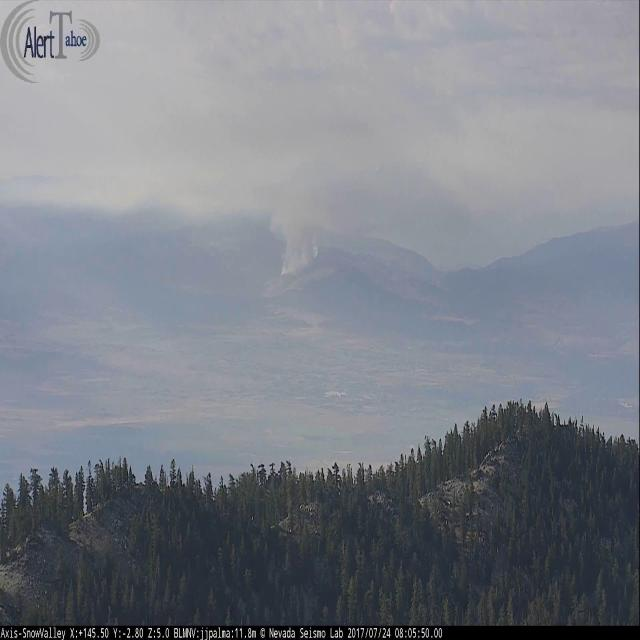smoke: (269, 189, 330, 277)
